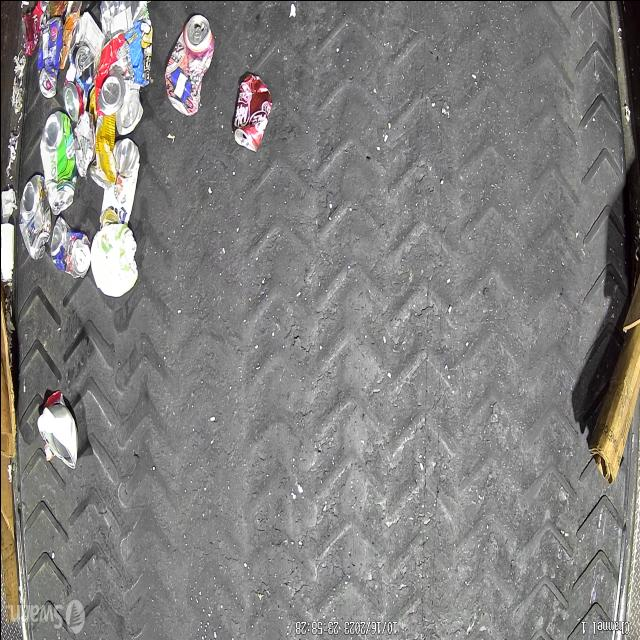can: (164, 12, 214, 116), (38, 110, 76, 216), (99, 137, 140, 230), (94, 30, 133, 116), (232, 70, 272, 152), (88, 85, 116, 189), (18, 173, 50, 260), (50, 215, 90, 279), (36, 16, 61, 98), (98, 0, 146, 36), (21, 0, 51, 57), (62, 62, 89, 122), (114, 82, 142, 134), (70, 42, 94, 82)
